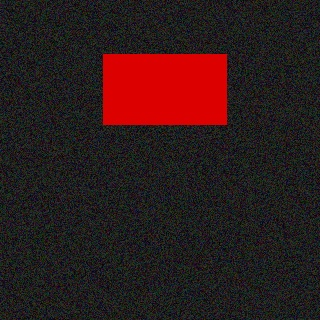red_barrel: (103, 55, 227, 125)
